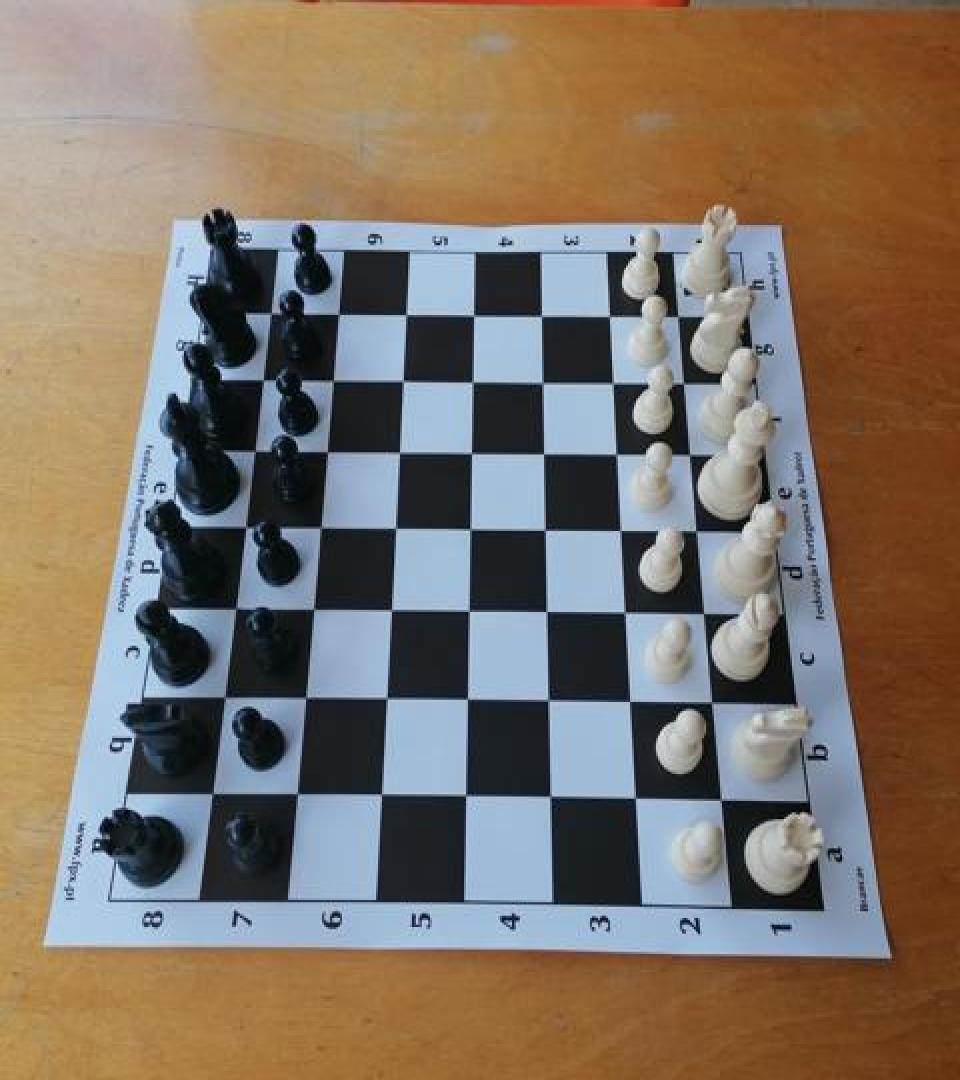xcorner: (198, 778, 228, 812), (283, 778, 313, 812), (368, 780, 398, 814), (453, 780, 483, 814), (538, 782, 568, 816), (624, 783, 654, 817), (710, 783, 740, 817), (208, 683, 238, 717), (290, 684, 320, 718), (372, 684, 402, 718), (454, 685, 484, 719), (536, 686, 566, 720), (618, 687, 648, 721), (701, 687, 731, 721), (218, 595, 248, 629), (297, 595, 327, 629), (376, 596, 406, 630), (455, 596, 485, 630), (534, 597, 564, 631), (613, 598, 643, 632), (693, 598, 723, 632), (227, 513, 257, 547), (303, 513, 333, 547), (379, 514, 409, 548), (456, 514, 486, 548), (532, 515, 562, 549), (608, 515, 638, 549), (685, 516, 715, 550), (236, 436, 266, 470), (309, 436, 339, 470), (383, 438, 413, 472), (456, 438, 486, 472), (244, 364, 274, 398), (315, 366, 345, 400), (386, 366, 416, 400), (457, 366, 487, 400), (528, 366, 558, 400), (600, 366, 630, 400), (671, 368, 701, 402), (251, 298, 281, 332), (320, 298, 350, 332), (389, 299, 419, 333), (458, 299, 488, 333), (527, 299, 557, 333), (596, 300, 626, 334), (665, 300, 695, 334), (530, 439, 560, 472), (604, 439, 634, 472), (678, 439, 708, 472)
